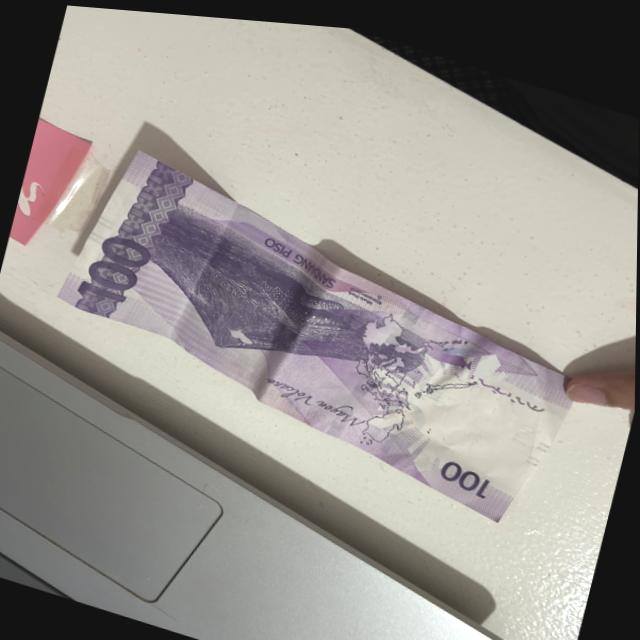100_whale: (241, 256, 379, 340)
100_whale_watermark: (414, 329, 479, 366)
value_watermark: (508, 409, 537, 438)
